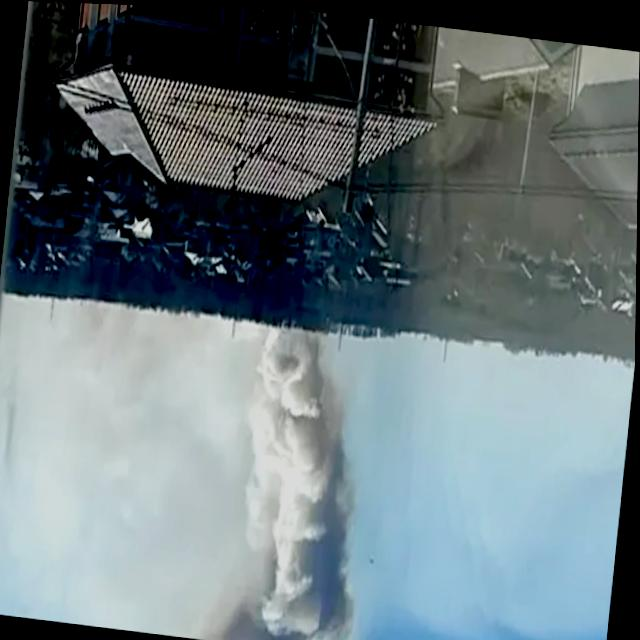no_helmet: (197, 335, 380, 640)
